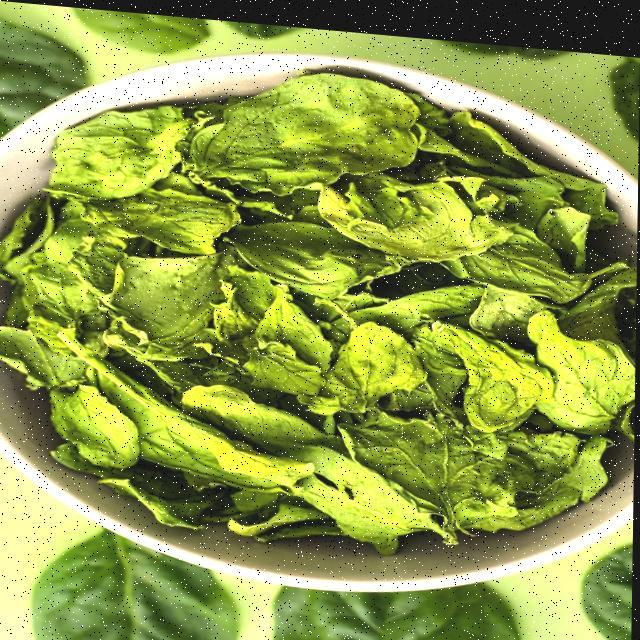Spinach: (0, 46, 639, 571), (28, 519, 239, 640), (266, 557, 528, 640), (0, 10, 88, 156), (55, 4, 202, 56), (575, 523, 634, 640), (388, 27, 601, 57), (607, 43, 640, 161), (194, 14, 328, 39)
